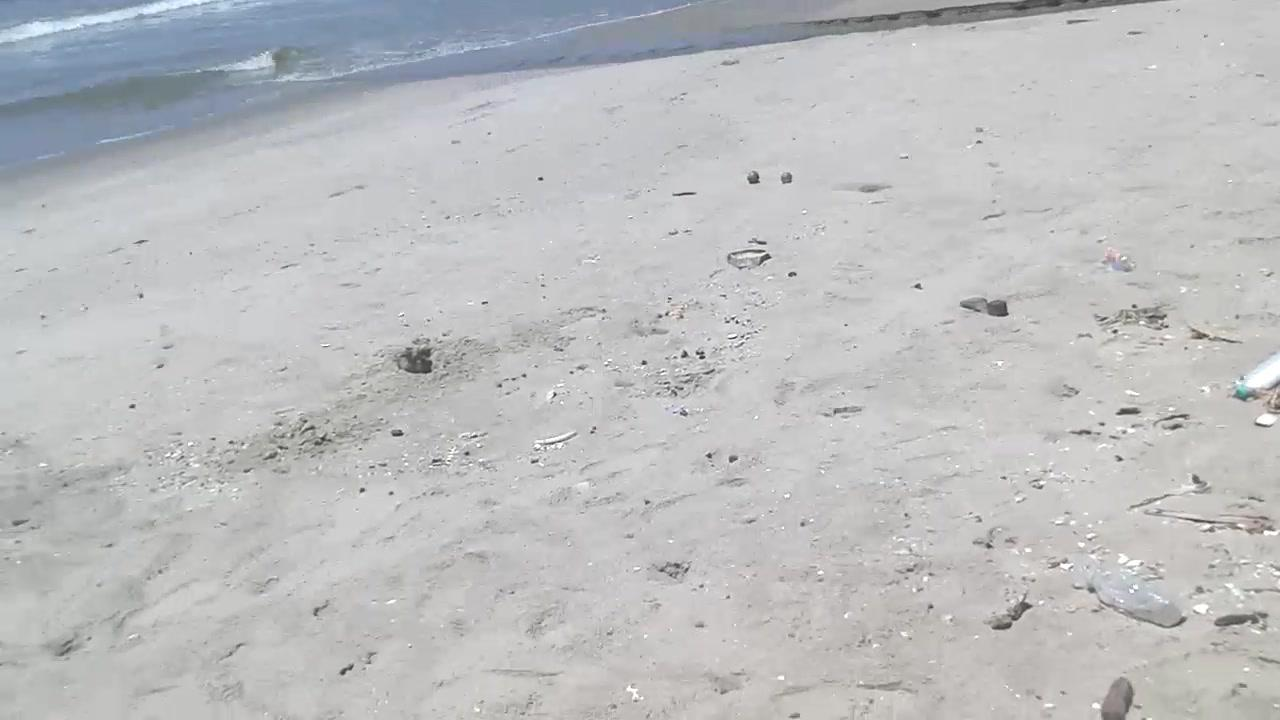obj: (1122, 474, 1280, 542), (1080, 560, 1192, 636), (1090, 300, 1174, 344), (1228, 345, 1279, 406), (388, 332, 434, 378), (956, 289, 1010, 323), (1098, 676, 1136, 720), (532, 428, 580, 454), (1098, 244, 1138, 272), (721, 246, 773, 267), (745, 170, 764, 186), (780, 170, 796, 188)
sand/background: (1, 0, 1184, 195)
